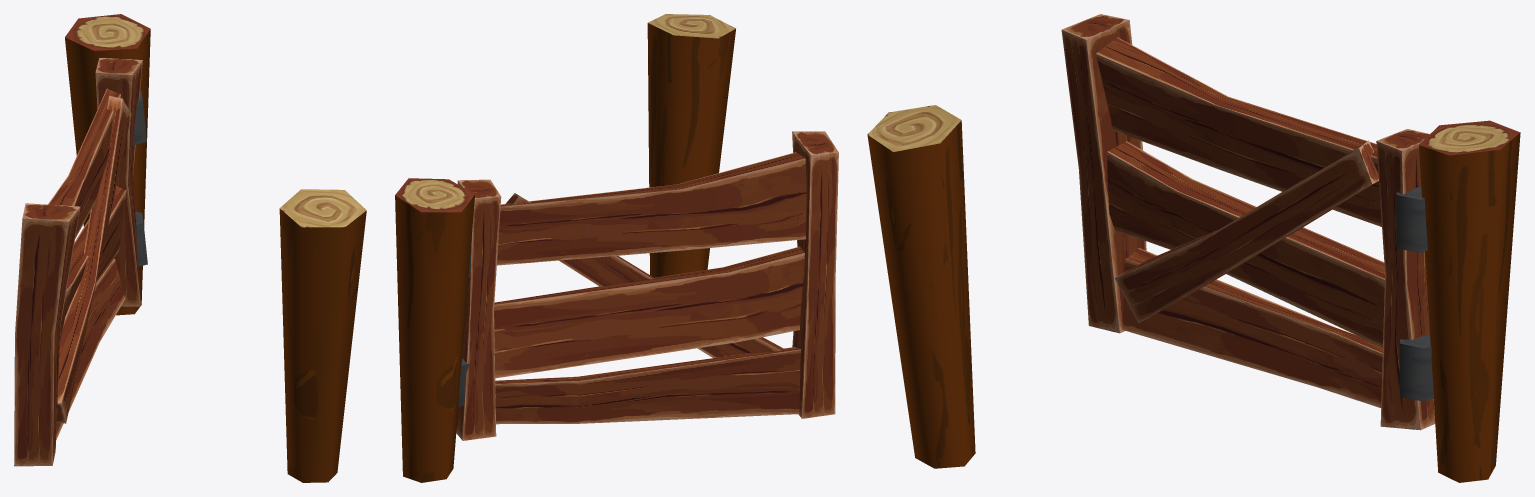
File: Fence.fbx
3 views of the same model, side by side, from view 1: azimuth 30°, elevation 25°; view 2: azimuth 150°, elevation 25°; view 3: azimuth 270°, elevation 25° (orthographic). The views are drawn at different scales.
Visible parts, largest first — view 1: SM_PROP_fence_door, BP_PROP_fence_gate2; view 2: SM_PROP_fence_door, BP_PROP_fence_gate2; view 3: SM_PROP_fence_door, BP_PROP_fence_gate2.
Part boxes in pixels (<box>): SM_PROP_fence_door: <box>14,58,147,466</box>; BP_PROP_fence_gate2: <box>65,14,366,482</box>; SM_PROP_fence_door: <box>456,131,838,440</box>; BP_PROP_fence_gate2: <box>395,14,735,482</box>; SM_PROP_fence_door: <box>1061,14,1435,430</box>; BP_PROP_fence_gate2: <box>867,105,1520,482</box>.
Bounding box in the file's own units: 120 × 116 × 206.
